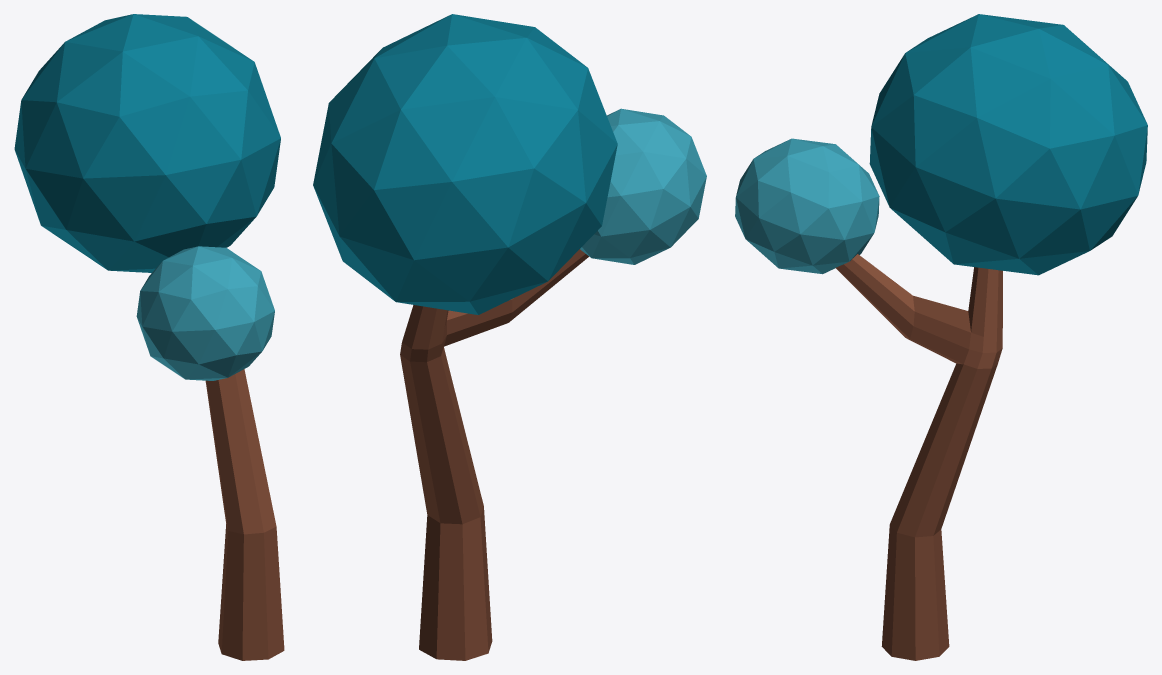
File: Tree_02_summer_blue_vc.fbx
3 views of the same model, side by side, from view 1: azimuth 30°, elevation 25°; view 2: azimuth 150°, elevation 25°; view 3: azimuth 270°, elevation 25° (orthographic). The views are drawn at different scales.
Visible parts, largest first — view 1: Tree_02_summer_blue_vc; view 2: Tree_02_summer_blue_vc; view 3: Tree_02_summer_blue_vc.
Boxes of the visible parts, <box> form: Tree_02_summer_blue_vc: <box>14,14,284,660</box>; Tree_02_summer_blue_vc: <box>313,14,706,660</box>; Tree_02_summer_blue_vc: <box>735,14,1147,660</box>.
Bounding box in the file's own units: 71.42 × 177 × 112.
